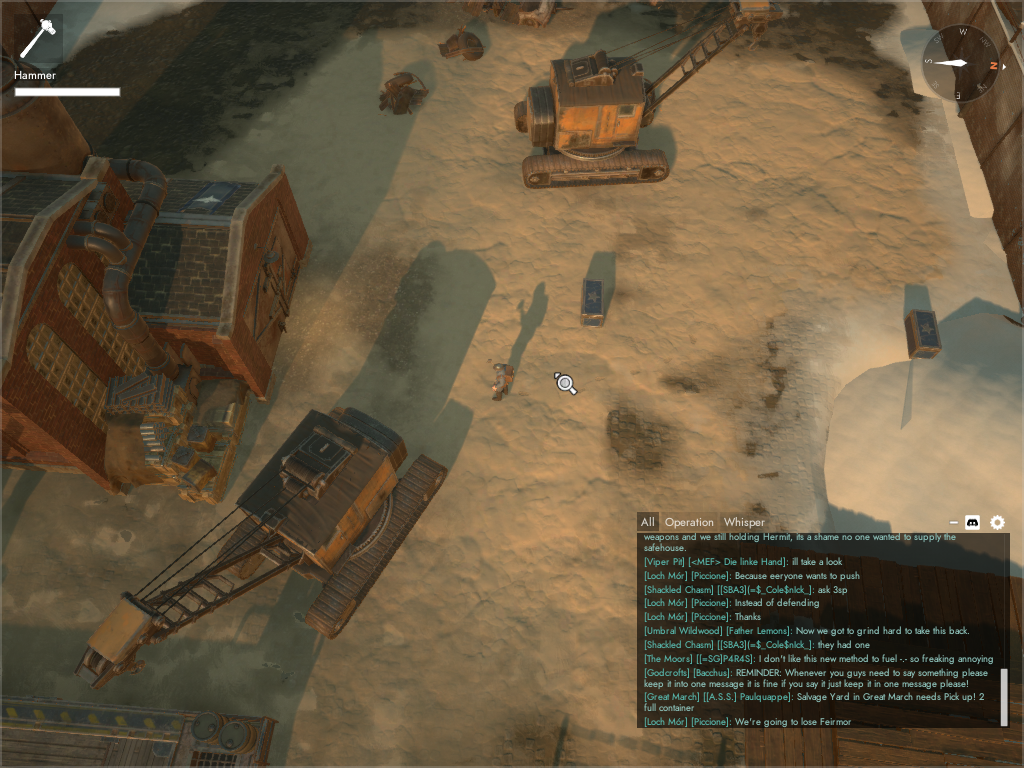crane: (70, 405, 447, 689), (513, 1, 785, 189)
player: (490, 363, 513, 401)
scrap: (373, 68, 431, 122), (464, 1, 573, 29), (434, 22, 485, 67)
storage_box: (901, 307, 944, 363), (573, 275, 613, 332)
